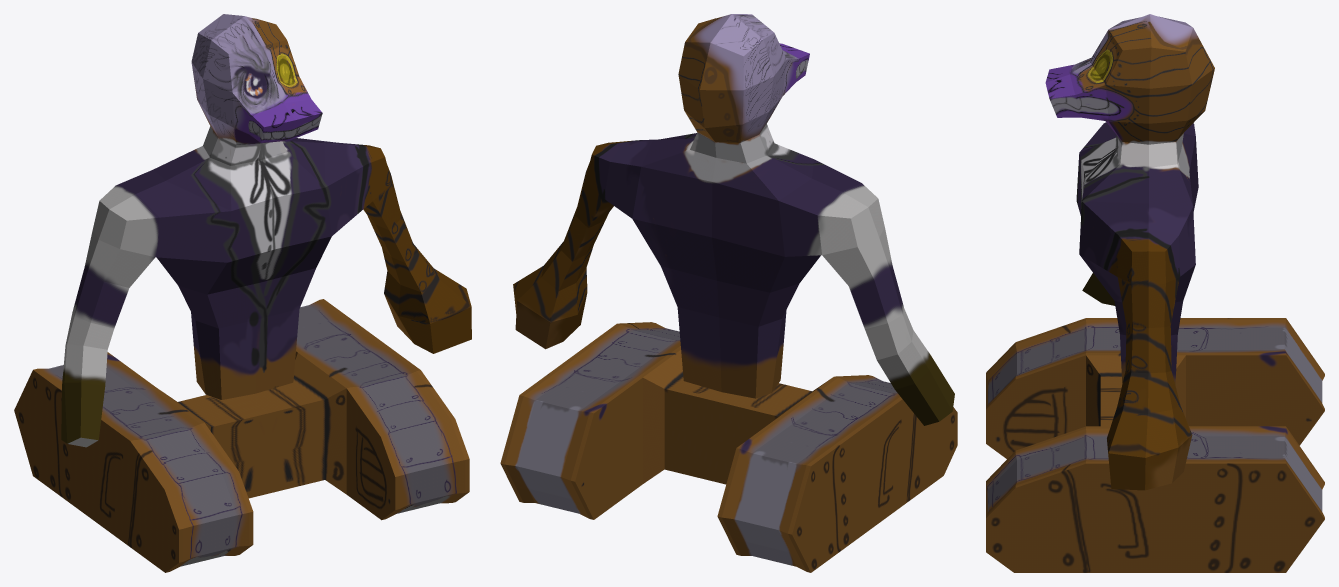
Rendered from Gov Nar Boss V2.fbx.
3 renders of one model, left to right at view 1: azimuth 30°, elevation 25°; view 2: azimuth 150°, elevation 25°; view 3: azimuth 270°, elevation 25°, orthographic. The views are drawn at different scales.
Visible parts, largest first — view 1: GovNarBoss_v2_polySurface1; view 2: GovNarBoss_v2_polySurface1; view 3: GovNarBoss_v2_polySurface1.
Boxes of the visible parts, x1,y1,x2,y2 form: GovNarBoss_v2_polySurface1: (14,14,471,572); GovNarBoss_v2_polySurface1: (500,14,957,572); GovNarBoss_v2_polySurface1: (986,14,1324,572).
Bounding box in the file's own units: 13.16 × 14.22 × 8.98.
Materials: 1 (1 with a texture image).
